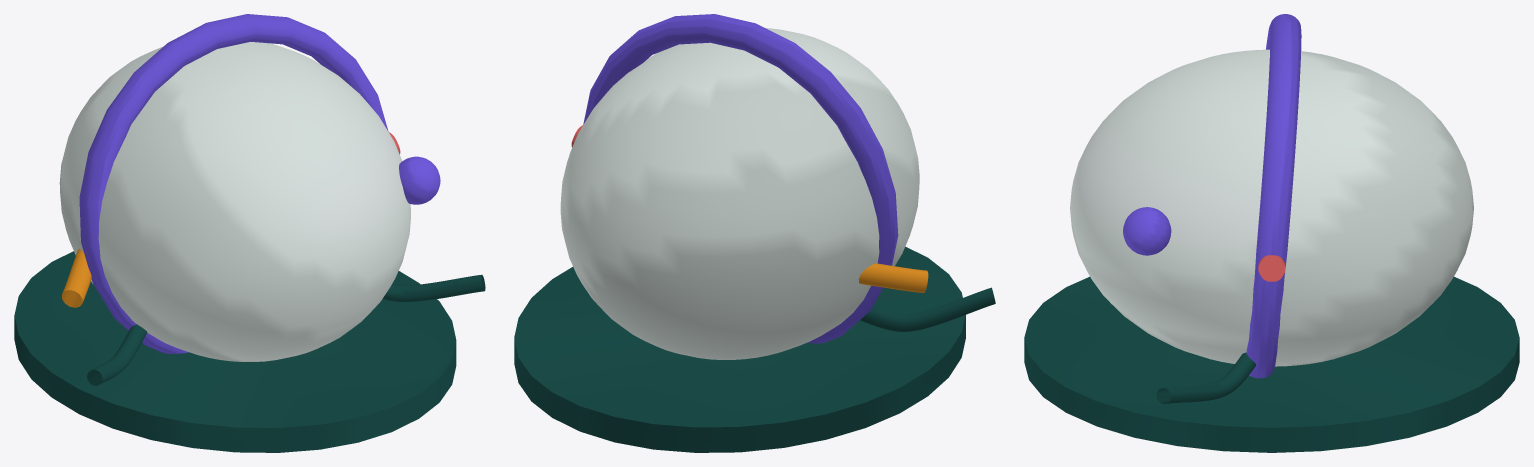
The model's file is 1215_细胞图鉴_细胞质.glb.
3 views of the same model, side by side, from view 1: azimuth 30°, elevation 25°; view 2: azimuth 150°, elevation 25°; view 3: azimuth 270°, elevation 25° (orthographic). The views are drawn at different scales.
Visible parts, largest first — view 1: card_1215; view 2: card_1215; view 3: card_1215.
Boxes of the visible parts, x1,y1,x2,y2 form: card_1215: (14, 14, 485, 452); card_1215: (514, 14, 995, 452); card_1215: (1024, 14, 1519, 452).
Bounding box in the file's own units: 1.26 × 1 × 1.35.
